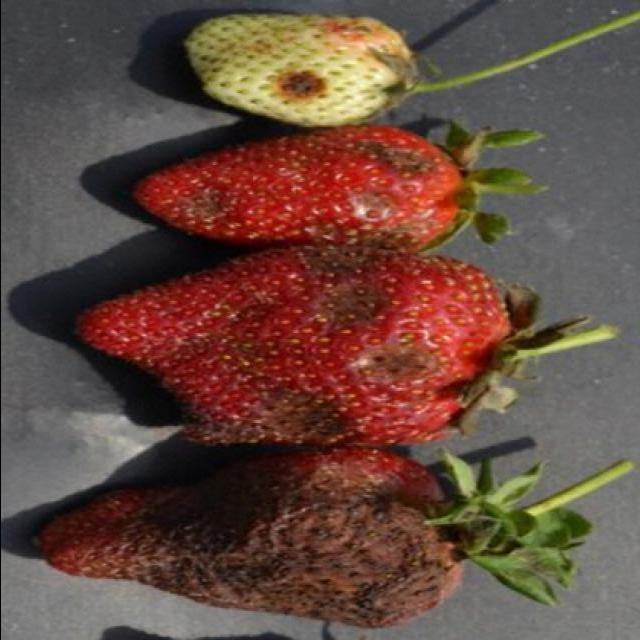Anthracnose Fruit Rot: (69, 448, 454, 631), (172, 250, 448, 446), (179, 136, 441, 254), (270, 66, 329, 106)
